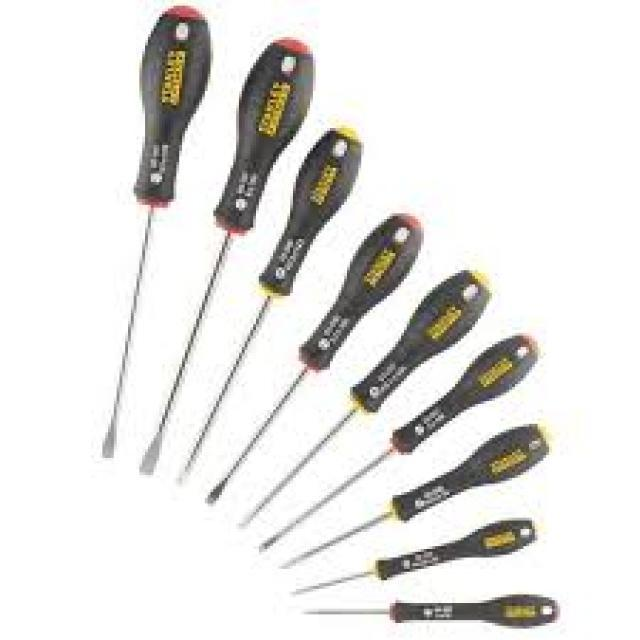screwdriver: (132, 34, 320, 481), (170, 122, 370, 495), (232, 267, 496, 529), (202, 206, 430, 508), (249, 327, 545, 555), (96, 2, 216, 464), (279, 418, 552, 569), (286, 514, 545, 600), (297, 593, 565, 630)
